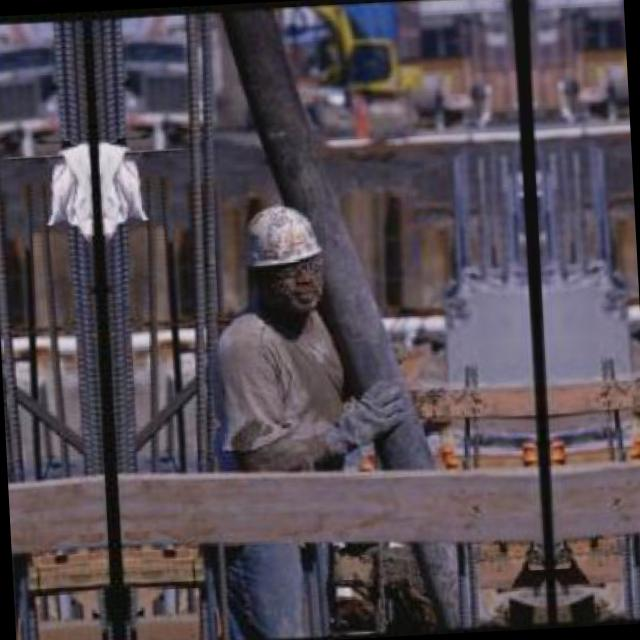helmet: (232, 200, 332, 318)
